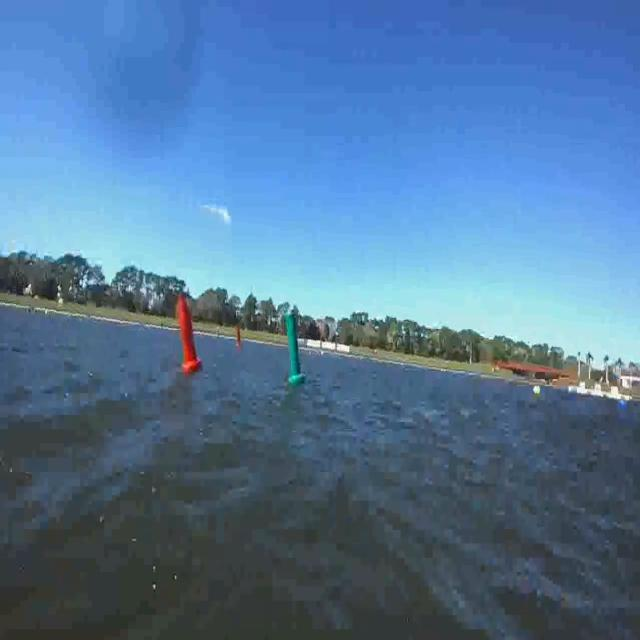blue-buoy: (620, 399, 628, 413)
green-column-buoy: (284, 311, 305, 384)
red-column-buoy: (176, 297, 200, 374), (236, 326, 244, 348)
yellow-buoy: (535, 382, 543, 395)
